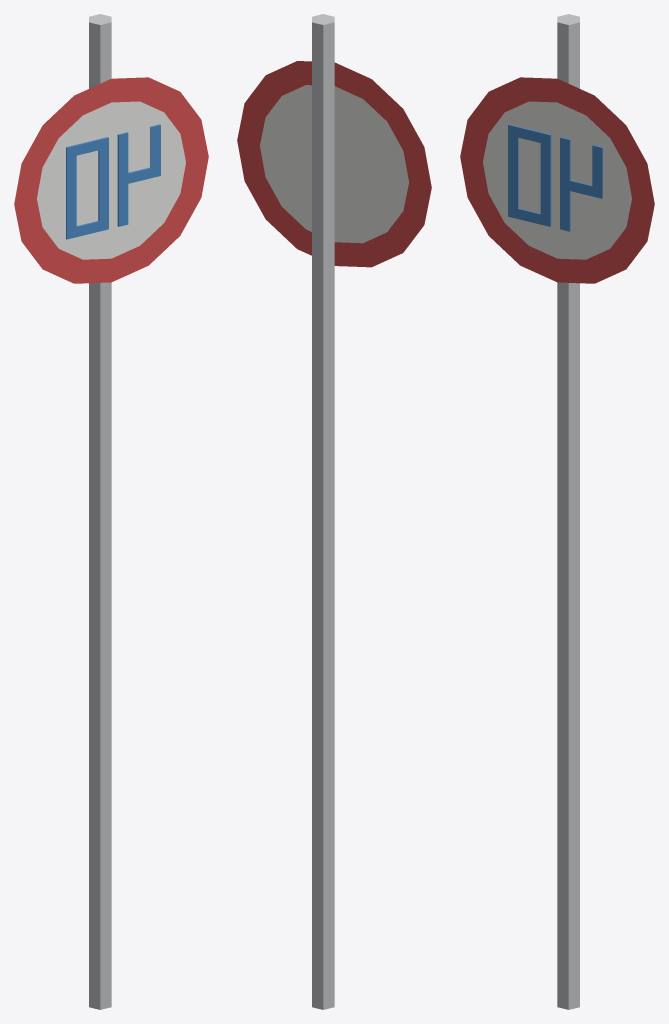
File: HK_Sign_Speed40.glb
3 views of the same model, side by side, from view 1: azimuth 30°, elevation 25°; view 2: azimuth 150°, elevation 25°; view 3: azimuth 330°, elevation 25° (orthographic).
Visible parts, largest first — view 1: HK_Sign_Speed40; view 2: HK_Sign_Speed40; view 3: HK_Sign_Speed40.
Part boxes in pixels (bbox=[...]): HK_Sign_Speed40: bbox=[14, 14, 208, 1009]; HK_Sign_Speed40: bbox=[237, 14, 431, 1009]; HK_Sign_Speed40: bbox=[460, 14, 654, 1009].
Size of the model in its own units: 0.6 by 2.9 by 0.1028.
